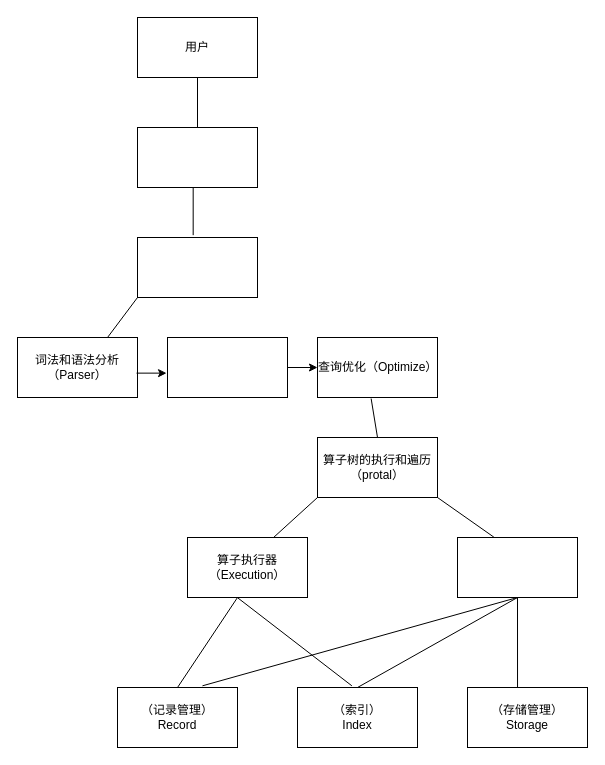
Some shapes in this 605 by 765 pixel diagram are drawn without their labels. Each missing label, with the centre of its shape:
"cmake编译并连接" belongs at point (197, 157).
"系统管理 （System）" belongs at point (517, 567).
"语义分析和检查（Analyze）" belongs at point (227, 367).
"输入sql语句" belongs at point (197, 267).
